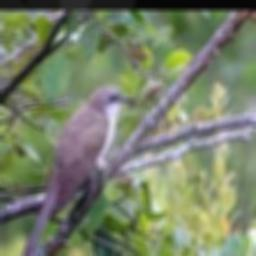Cuckoo: (17, 86, 134, 256)
